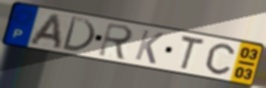A: (27, 12, 63, 51)
C: (204, 42, 237, 77)
D: (60, 15, 97, 54)
K: (132, 28, 166, 66)
R: (96, 22, 136, 63)
T: (178, 34, 206, 73)
